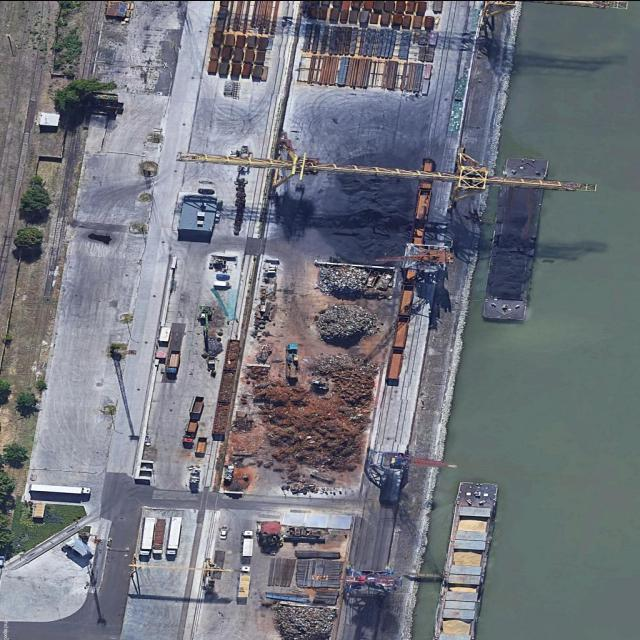dump_site: (311, 263, 395, 299), (311, 301, 380, 342), (270, 603, 336, 640)
